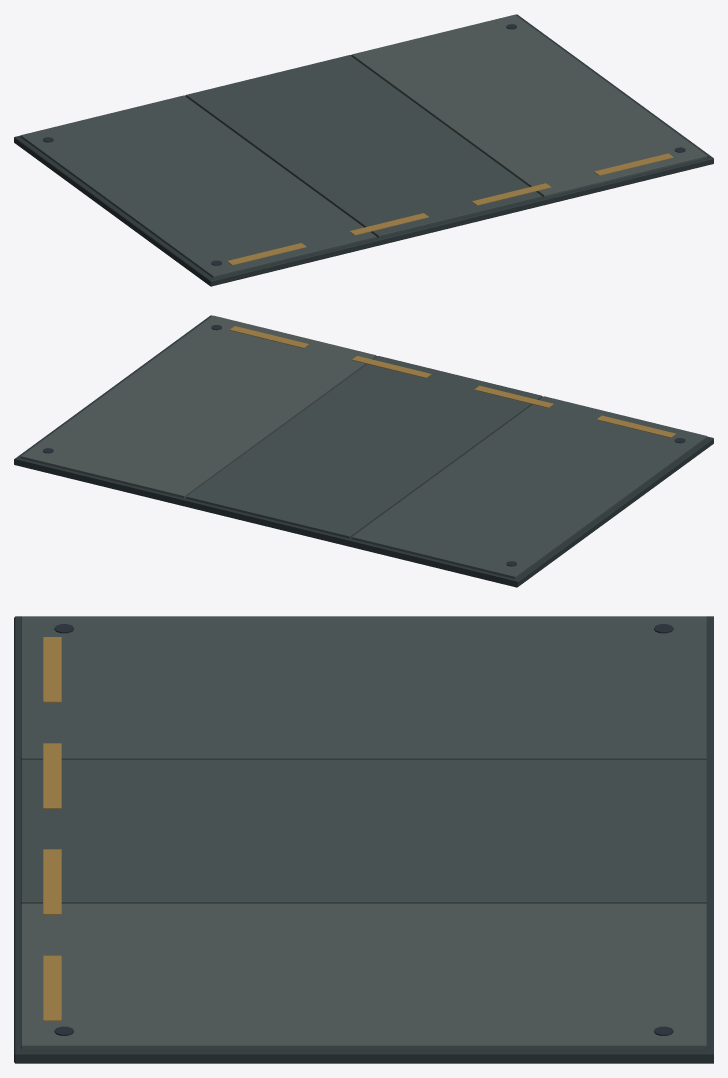
File: R-23_service_deck.glb
3 renders of one model, top to bottom at view 1: azimuth 30°, elevation 25°; view 2: azimuth 150°, elevation 25°; view 3: azimuth 270°, elevation 25°, orthographic. The views are drawn at different scales.
Parts seen in each view (by area): view 1: R-23_service_deck; view 2: R-23_service_deck; view 3: R-23_service_deck.
Part boxes in pixels (<box>): R-23_service_deck: <box>14,14,713,286</box>; R-23_service_deck: <box>14,315,713,587</box>; R-23_service_deck: <box>14,616,713,1063</box>.
Size of the model in its own units: 2.1 by 0.036 by 1.42.
